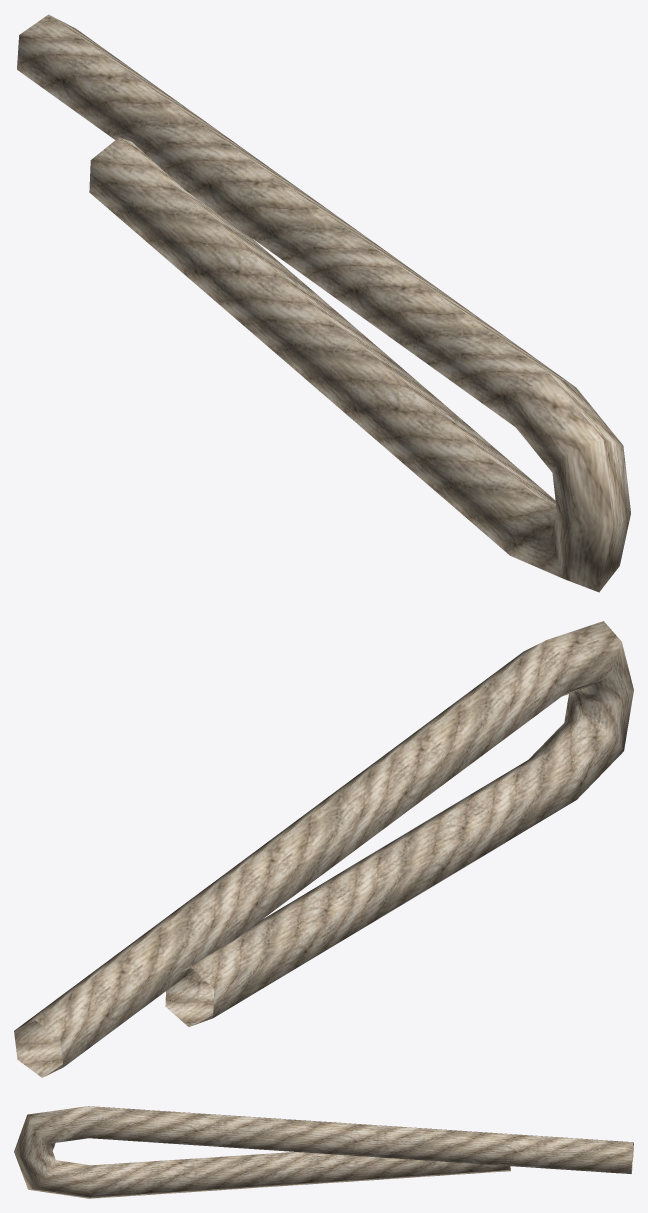
The model's file is Rope Loop.fbx.
The picture shows the model from 3 angles, top to bottom: view 1: azimuth 30°, elevation 25°; view 2: azimuth 150°, elevation 25°; view 3: azimuth 270°, elevation 25°; orthographic projection. The views are drawn at different scales.
Visible parts, largest first — view 1: Line423; view 2: Line423; view 3: Line423.
Part boxes in pixels (x1,y1,x2,y2): Line423: (17, 14, 630, 592); Line423: (14, 621, 633, 1077); Line423: (14, 1106, 633, 1198).
Size of the model in its own units: 7.82 by 77.43 by 13.12.
Materials: 1 (1 with a texture image).
